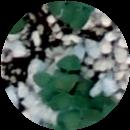Basil: (65, 108, 101, 129), (75, 79, 95, 107), (58, 57, 76, 86), (46, 1, 70, 22), (32, 75, 60, 92), (69, 4, 88, 26), (50, 92, 68, 111)
